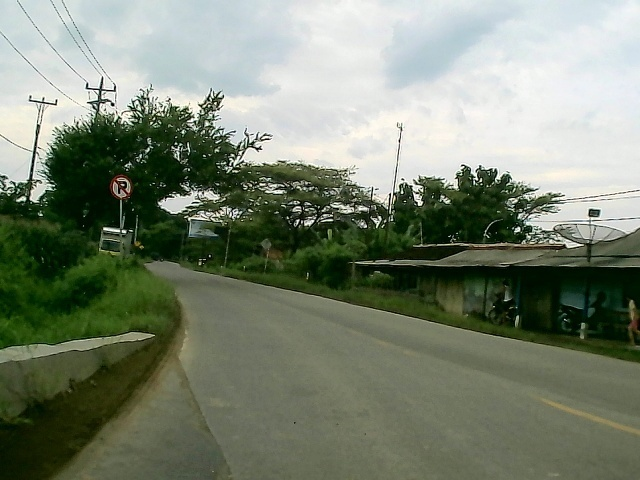Dilarang parkir: (106, 171, 136, 206)
